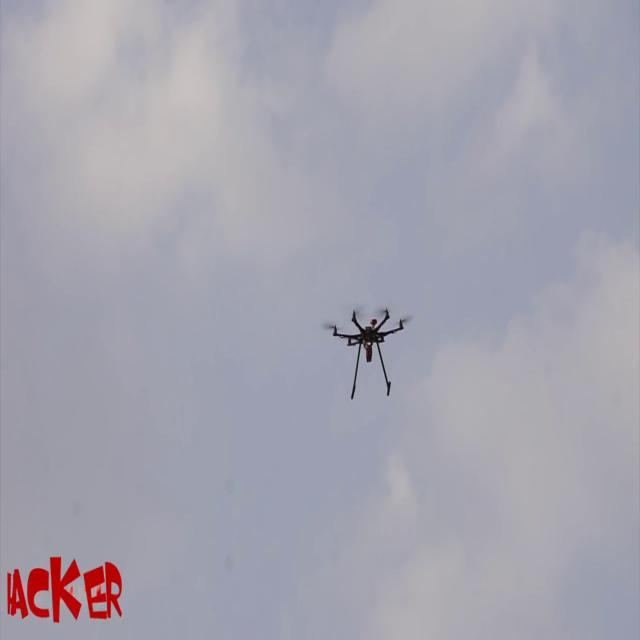drone: (316, 290, 420, 417)
